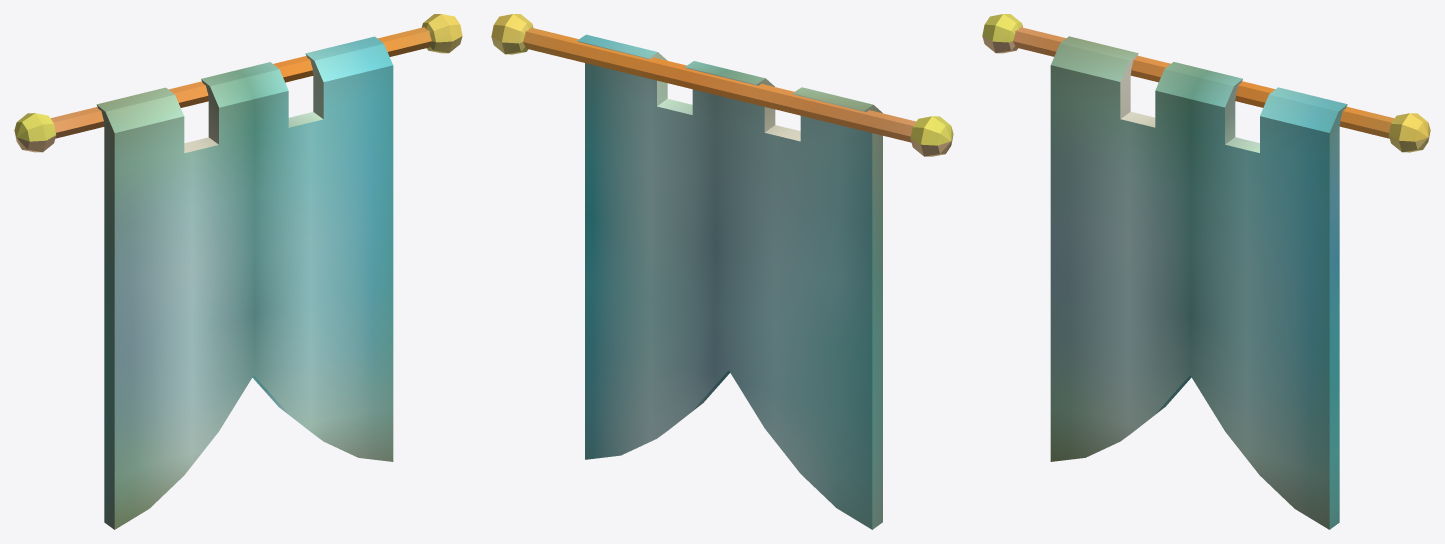
The model's file is mega-pack-cube-022.glb.
The picture shows the model from 3 angles, left to right: view 1: azimuth 30°, elevation 25°; view 2: azimuth 150°, elevation 25°; view 3: azimuth 330°, elevation 25°; orthographic projection. The views are drawn at different scales.
Parts seen in each view (by area): view 1: Cube.022; view 2: Cube.022; view 3: Cube.022.
Part boxes in pixels (x1,y1,x2,y2): Cube.022: (14,14,462,529); Cube.022: (491,14,953,529); Cube.022: (982,14,1430,529).
Size of the model in its own units: 0.8091 by 0.7328 by 0.0843.
1 material, 1 textured.
